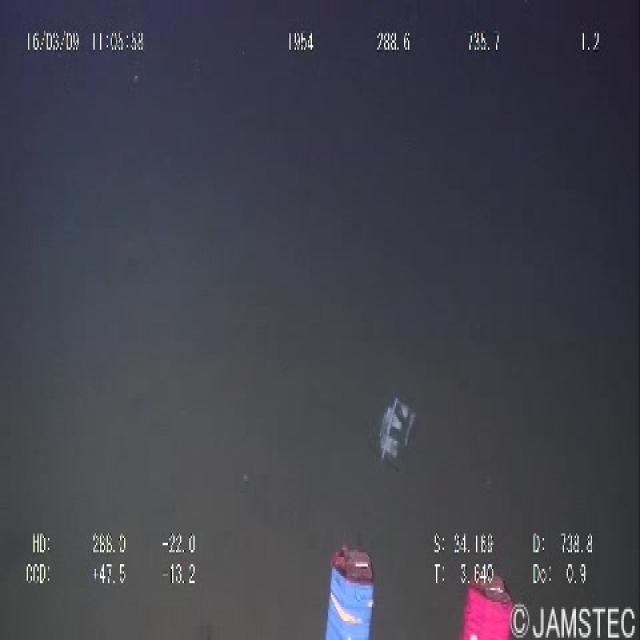plastic: (369, 386, 422, 472)
